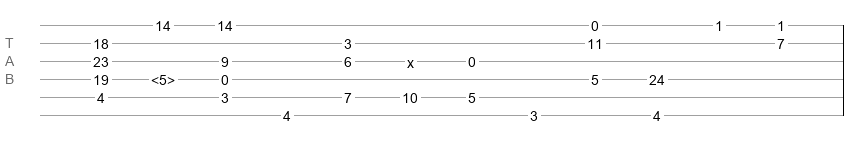0: (221, 72, 229, 82), (468, 54, 476, 64), (591, 18, 599, 28)
1: (715, 18, 723, 28), (777, 18, 785, 28)
10: (402, 90, 418, 100)
11: (587, 36, 603, 46)
14: (155, 18, 171, 28), (217, 18, 233, 28)
18: (93, 36, 109, 46)
19: (93, 72, 109, 82)
23: (93, 54, 109, 64)
24: (649, 72, 665, 82)
3: (221, 90, 229, 100), (344, 36, 352, 46), (530, 108, 538, 118)
4: (97, 90, 105, 100), (283, 108, 291, 118), (653, 108, 661, 118)
5: (468, 90, 476, 100), (591, 72, 599, 82)
6: (344, 54, 352, 64)
7: (344, 90, 352, 100), (777, 36, 785, 46)
9: (221, 54, 229, 64)
harmonic: (151, 72, 175, 82)
x: (407, 55, 414, 63)
